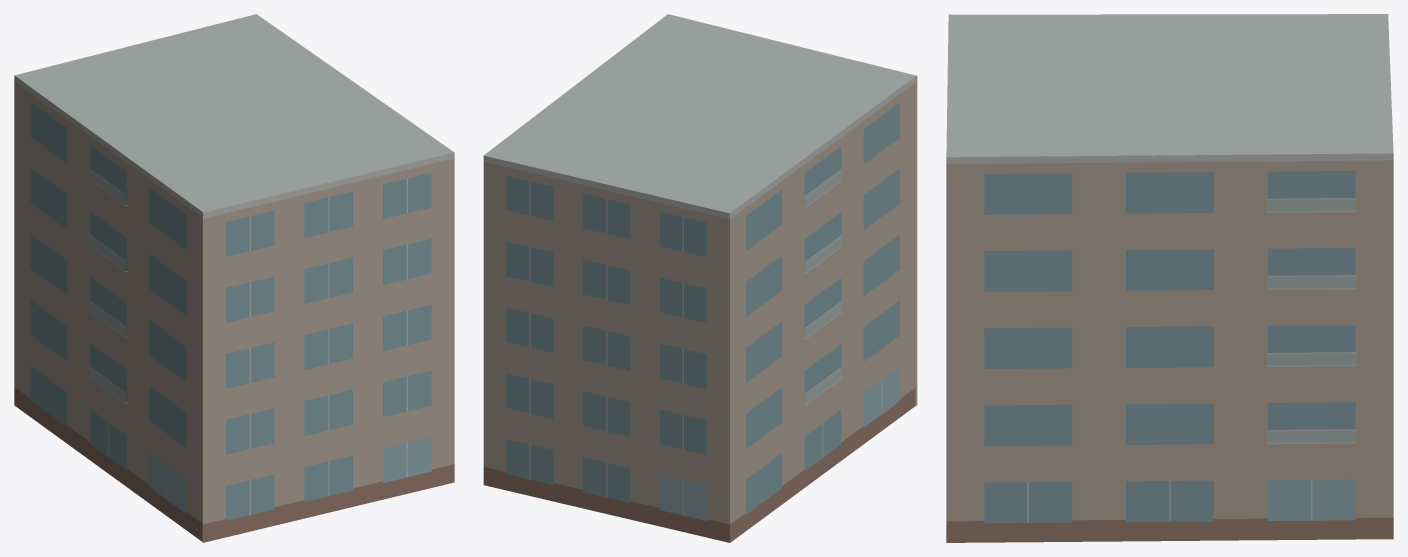
Rendered from survey-upis-32834490.glb.
3 views of the same model, side by side, from view 1: azimuth 30°, elevation 25°; view 2: azimuth 150°, elevation 25°; view 3: azimuth 270°, elevation 25° (orthographic). The views are drawn at different scales.
Parts seen in each view (by area): view 1: survey-upis-32834490.tmp; view 2: survey-upis-32834490.tmp; view 3: survey-upis-32834490.tmp.
Boxes of the visible parts, x1=… form: survey-upis-32834490.tmp: x1=14, y1=14, x2=454, y2=542; survey-upis-32834490.tmp: x1=483, y1=14, x2=917, y2=542; survey-upis-32834490.tmp: x1=946, y1=14, x2=1393, y2=542.
Bounding box in the file's own units: 10.82 × 13.55 × 14.25.
